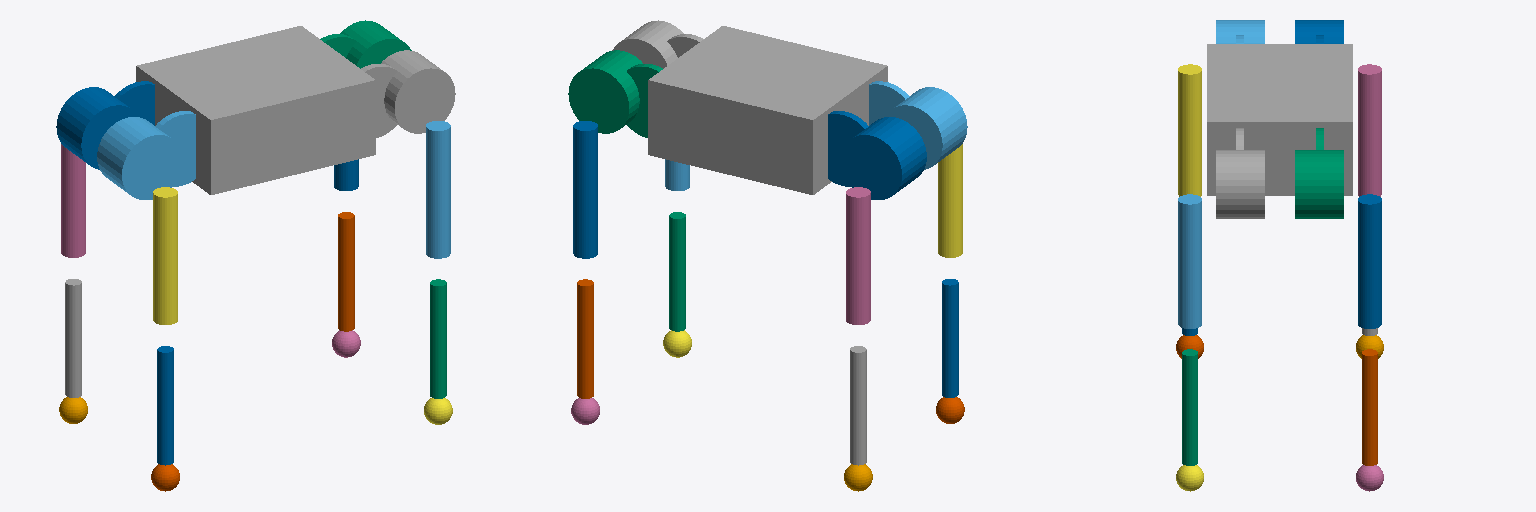
--- Render facts (derived) ---
The picture shows the robot from 3 angles, left to right: view 1: azimuth 30°, elevation 25°; view 2: azimuth 150°, elevation 25°; view 3: azimuth 270°, elevation 25°; orthographic projection.
Robot: mini_cheetah — 22 links, 21 joints (12 revolute, 9 fixed); root link base; default pose: every joint at zero.
Visible links, largest first — view 1: trunk, RR_hip, FR_hip, RL_hip, RR_thigh, FR_thigh, RL_thigh, FL_hip, FR_calf, FL_calf, RR_calf, RL_calf (+5 smaller); view 2: trunk, RL_hip, FL_hip, RR_hip, RL_thigh, FL_thigh, RR_thigh, FR_hip, FL_calf, FR_calf, RL_calf, RR_calf (+5 smaller); view 3: trunk, FL_hip, FR_hip, FL_thigh, FR_thigh, RL_thigh, RR_thigh, FL_calf, FR_calf, RL_hip, RR_hip, FL_foot (+1 smaller).
Link boxes in pixels (left/top/right/bottom): trunk: left=136, top=26, right=375, bottom=194; RR_hip: left=97, top=111, right=195, bottom=199; FR_hip: left=361, top=50, right=455, bottom=137; RL_hip: left=56, top=81, right=154, bottom=169; RR_thigh: left=153, top=187, right=177, bottom=324; FR_thigh: left=426, top=121, right=450, bottom=258; RL_thigh: left=61, top=144, right=85, bottom=257; FL_hip: left=320, top=20, right=411, bottom=68; FR_calf: left=430, top=279, right=446, bottom=398; FL_calf: left=338, top=212, right=354, bottom=331; RR_calf: left=157, top=346, right=173, bottom=465; RL_calf: left=65, top=279, right=81, bottom=397; trunk: left=648, top=26, right=887, bottom=194; RL_hip: left=828, top=111, right=926, bottom=199; FL_hip: left=568, top=50, right=662, bottom=137; RR_hip: left=869, top=81, right=967, bottom=169; RL_thigh: left=846, top=187, right=870, bottom=324; FL_thigh: left=573, top=121, right=597, bottom=258; RR_thigh: left=938, top=144, right=962, bottom=257; FR_hip: left=612, top=20, right=703, bottom=68; FL_calf: left=577, top=279, right=593, bottom=398; FR_calf: left=669, top=212, right=685, bottom=331; RL_calf: left=850, top=346, right=866, bottom=465; RR_calf: left=942, top=279, right=958, bottom=397; trunk: left=1207, top=44, right=1352, bottom=195; FL_hip: left=1295, top=128, right=1343, bottom=218; FR_hip: left=1216, top=128, right=1264, bottom=218; FL_thigh: left=1358, top=194, right=1381, bottom=328; FR_thigh: left=1178, top=194, right=1201, bottom=328; RL_thigh: left=1358, top=64, right=1381, bottom=196; RR_thigh: left=1178, top=64, right=1201, bottom=196; FL_calf: left=1362, top=349, right=1377, bottom=465; FR_calf: left=1182, top=349, right=1197, bottom=465; RL_hip: left=1295, top=20, right=1343, bottom=43; RR_hip: left=1216, top=20, right=1264, bottom=43; FL_foot: left=1356, top=465, right=1383, bottom=491.
Bounding box of the posed robot: 0.465 × 0.257 × 0.4665 m (x, y, z).
Geometry: primitives only (box / cylinder / sphere), no mesh files.

URDF robot description (mini_cheetah):
<?xml version="1.0" ?>
<robot name="mini_cheetah" xmlns:xacro="http://ros.org/wiki/xacro">

<material name="cheetah_material">
    <color rgba="0.7 0.7 0.7 1.0"/>
</material>


<!--!!!!!!!!!!!!!!!!!!BODY!!!!!!!!!!!!!!!!!!!!!!!!!!!!!!!-->
<!--   <link name="trunk">
        <inertial>
            <mass value="3.3"/>
            <origin xyz="0.0 0.0 0.0"/>
            <inertia ixx="0.011253" ixy="0" ixz="0" iyy="0.036203" iyz="0" izz="0.042673"/>
        </inertial>
        <visual>
            <geometry>
              mesh filename="meshes/mini_body.obj"/!!!
	        <box size="0.23 0.18 0.1"/>
            </geometry>
            <origin rpy="0.0 0.0 0.0" xyz="0.0 0.0 0.0"/>
        </visual>
        <collision>
            <geometry>
              mesh filename="meshes/mini_body.obj"/
	      <box size="0.23 0.18 0.1"/>
            </geometry>
            <origin rpy="0 0 0" xyz="0 0 0"/>
        </collision>
        <material name="cheetah_material"/>
    </link>

 -->
<link name="base">
    <visual>
      <origin rpy="0 0 0" xyz="0 0 0"/>
      <geometry>
        <box size="0.001 0.001 0.001"/>
      </geometry>
    </visual>
    <inertial>
      <origin rpy="0 0 0" xyz="0.012731 0.002186 0.000515"/>
      <mass value="3.3"/>
      <inertia ixx="0.01683993" ixy="8.3902e-05" ixz="0.000597679" iyy="0.056579028" iyz="2.5134e-05" izz="0.064713601"/>
    </inertial>
  </link>
  <joint name="floating_base" type="fixed">
    <origin rpy="0 0 0" xyz="0 0 0"/>
    <parent link="base"/>
    <child link="trunk"/>
  </joint>
  <link name="trunk">
    <visual>
      <origin rpy="0 0 0" xyz="0 0 0"/>
      <geometry>
        <box size="0.23 0.18 0.1"/>
        </geometry>
      <!-- <geometry>
        <mesh filename="../meshes/trunk.dae" scale="1 1 1"/>
      </geometry> -->
      <material name="cheetah_material"/>
    </visual>
    <collision>
      <origin rpy="0 0 0" xyz="0 0 0"/>
      <geometry>
        <box size="0.23 0.18 0.1"/>
      </geometry>
    </collision>
    <material name="cheetah_material"/>
  </link>
  <!-- <joint name="imu_joint" type="fixed">
    <parent link="trunk"/>
    <child link="imu_link"/>
    <origin rpy="0 0 0" xyz="0 0 0"/>
  </joint>
  <link name="imu_link">
    <inertial>
      <mass value="0.001"/>
      <origin rpy="0 0 0" xyz="0 0 0"/>
      <inertia ixx="0.0001" ixy="0" ixz="0" iyy="0.0001" iyz="0" izz="0.0001"/>
    </inertial>
    <visual>
      <origin rpy="0 0 0" xyz="0 0 0"/>
      <geometry>
        <box size="0.001 0.001 0.001"/>
      </geometry>
      <material name="red"/>
    </visual> -->
    <!-- <collision>
      <origin rpy="0 0 0" xyz="0 0 0"/>
      <geometry>
        <box size=".001 .001 .001"/>
      </geometry>
    </collision> 
  </link> -->


<!--!!!!!!!!!!!! Front Left Leg !!!!!!!!!!!!!!!!!!!!!!!!!!!!!!!!!!!!-->
    <joint name="FL_hip_joint" type="revolute">
        <axis xyz="1 0 0"/>
        <origin rpy="0 0 0" xyz="0.19 0.049 0.0"/>
        <parent link="trunk"/>
        <child link="FL_hip"/>
	<limit effort="18" lower="-1.6" upper="1.6" velocity="40"/>
    </joint>
    <link name="FL_hip">
        <material name="cheetah_material"/>
        <inertial>
            <mass value="0.54"/>
            <origin xyz="0.0 0.036 0."/>
            <inertia ixx="0.000381" ixy="0.000058" ixz="0.00000045" 
                iyy="0.000560" iyz="0.00000095" izz="0.000444"/>
        </inertial>
        <visual>
            <geometry>
              <!--mesh filename="meshes/mini_abad.obj"/-->
	      <cylinder length ="0.01" radius = "0.0475"/>
            </geometry>
            <origin rpy="0. 1.5708 -1.5708" xyz="-0.055 0.0 0.0"/>
        </visual>
	<visual>
            <geometry>
              <!--mesh filename="meshes/mini_abad.obj"/-->
	      <cylinder length ="0.06" radius = "0.0425"/>
            </geometry>
            <!--origin rpy="3.141592 0.0 1.5708" xyz="-0.055 0.0 0.0"/-->
	    <origin rpy="1.5708 0.0 0.0" xyz="0.0 0.0 0.0"/>
        </visual>
        <collision>
            <geometry>
              <!--mesh filename="meshes/mini_abad.obj"/-->
	      <cylinder length ="0.01" radius = "0.0475"/>
            </geometry>
            <!--origin rpy="0 0 -1.5708" xyz="-0.055 0 0"/-->
	    <origin rpy="0 1.5708 -1.5708" xyz="-0.055 0.0 0.0"/>
        </collision>
	<collision>
            <geometry>
              <!--mesh filename="meshes/mini_abad.obj"/-->
	      <cylinder length ="0.06" radius = "0.0425"/>
            </geometry>
            <!--origin rpy="0 0 -1.5708" xyz="-0.055 0 0"/-->
	    <origin rpy="1.5708 0.0 0.0" xyz="0.0 0.0 0.0"/>
        </collision>
    </link>

    <joint name="FL_hip_fixed" type="fixed">
    <origin rpy="0 0 0" xyz="0 0.081 0"/>
    <parent link="FL_hip"/>
    <child link="FL_thigh_shoulder"/>
  </joint>
  <!-- this link is only for collision -->
  <link name="FL_thigh_shoulder">
    <!-- <collision>
      <origin rpy="1.57079632679 0 0" xyz="0 0 0"/>
      <geometry>
        <cylinder length="0.032" radius="0.041"/>
      </geometry>
    </collision> -->
  </link>

    <joint name="FL_thigh_joint" type="revolute">
        <axis xyz="0 -1 0"/>
        <origin rpy="0.0 0.0 0.0" xyz="0.0 0.062 0.00"/>
        <parent link="FL_hip"/>
        <child link="FL_thigh"/>
	<limit effort="18" lower="-2.6" upper="2.6" velocity="40"/>
    </joint>
    <link name="FL_thigh">
        <material name="cheetah_material"/>
        <inertial>
            <mass value="0.634"/>
            <origin xyz="0.0 0.016 -0.02"/>
            <inertia ixx="0.001983" ixy="0.000245" ixz="0.000013" 
                iyy="0.002103" iyz="0.0000015" izz="0.000408"/>
        </inertial>
        <visual>
            <geometry>
              <!--mesh filename="meshes/mini_upper_link.obj"/-->
	      <cylinder length ="0.17" radius = "0.015"/>
            </geometry>
            <origin rpy="0.0 0.0 0.0" xyz="0.0 0.0 -0.105"/>
        </visual>
        <collision>
            <geometry>
              <!--mesh filename="meshes/mini_upper_link.obj"/-->
	      <cylinder length ="0.17" radius = "0.015"/>
            </geometry>
            <origin rpy="0.0 0.0 0.0" xyz="0.0 0.0 -0.105"/>
        </collision>
    </link>

    <joint name="FL_calf_joint" type="revolute">
        <axis xyz="0 -1 0"/>
        <origin rpy="0.0 0 0.0" xyz="0.0 0.0 -0.209"/>
        <parent link="FL_thigh"/>
        <child link="FL_calf"/>
	<limit effort="26" lower="-2.6" upper="2.6" velocity="26"/>
    </joint>
    <link name="FL_calf">
        <material name="cheetah_material"/>
        <inertial>
            <mass value="0.064"/>
            <origin xyz="0.0 0.0 -0.209"/>
            <inertia ixx="0.000245" ixy="0" ixz="0.0" iyy="0.000248" iyz="0" izz="0.000006"/>
        </inertial>
        <visual>
            <geometry>
              <!--mesh filename="meshes/mini_lower_link.obj"/-->
	      <cylinder length ="0.15" radius = "0.01"/>
            </geometry>
            <origin rpy="0.0 3.141592 0.0" xyz="0.0 0.0 -0.095"/>
        </visual>
        <collision>
            <geometry>
              <!--mesh filename="meshes/mini_lower_link.obj"/-->
	      <cylinder length ="0.15" radius = "0.01"/>
            </geometry>
            <origin rpy="0.0 3.141592 0.0" xyz="0 0 -0.095"/>
        </collision>
    </link>
    <!-- Adapter to Foot joint -->
    <joint name="FL_foot_fixed" type="fixed">
        <parent link="FL_calf"/>
        <child link="FL_foot"/>
        <origin rpy="0.0 0.0 0.0" xyz="0.0 0.0 -0.19"/>
    </joint>
    <link name="FL_foot">
        <material name="cheetah_material"/>
        <inertial>
            <mass value="0.0"/>
            <inertia ixx="0.000025" ixy="0" ixz="0.0" iyy="0.000025" iyz="0" izz="0.000025"/>
        </inertial>
	<visual>
            <geometry>
              <sphere radius = "0.0175"/>
            </geometry>
            <origin rpy="0.0 3.141592 0.0" xyz="0.0 0.0 0.0"/>
        </visual>
	<collision>
            <geometry>
              <!--mesh filename="meshes/mini_lower_link.obj"/-->
	      <sphere radius = "0.0175"/>
            </geometry>
            <origin rpy="0.0 3.141592 0.0" xyz="0 0 0"/>
        </collision>
    </link>
	


    
    <!--!!!!!!!!!!!! Front Right Leg !!!!!!!!!!!!!!!!!!!!!!!!!!!!!!!!!!!!-->

    <!--!!!!Joint!!!!!!!!!!!!-->
    <joint name="FR_hip_joint" type="revolute">
        <axis xyz="1 0 0"/>
        <origin rpy="0 0 0" xyz="0.19 -0.049 0.0"/>
        <parent link="trunk"/>
        <child link="FR_hip"/>
	<limit effort="18" lower="-1.6" upper="1.6" velocity="40"/>
    </joint>
    <link name="FR_hip">
        <material name="cheetah_material"/>
        <inertial>
            <mass value="0.54"/>
            <origin xyz="0.0 0.036 0."/>
            <inertia ixx="0.000381" ixy="0.000058" ixz="0.00000045" 
                iyy="0.000560" iyz="0.00000095" izz="0.000444"/>
        </inertial>
        <visual>
            <geometry>
              <!--mesh filename="meshes/mini_abad.obj"/-->
	      <cylinder length ="0.01" radius = "0.0475"/>
            </geometry>
            <!--origin rpy="3.141592 0.0 1.5708" xyz="-0.055 0.0 0.0"/-->
	    <origin rpy="3.141592 1.5708 1.5708" xyz="-0.055 0.0 0.0"/>
        </visual>
	<visual>
            <geometry>
              <!--mesh filename="meshes/mini_abad.obj"/-->
	      <cylinder length ="0.06" radius = "0.0425"/>
            </geometry>
            <!--origin rpy="3.141592 0.0 1.5708" xyz="-0.055 0.0 0.0"/-->
	    <origin rpy="1.5708 0.0 0.0" xyz="0.0 0.0 0.0"/>
        </visual>
        <collision>
            <geometry>
              <!--mesh filename="meshes/mini_abad.obj"/-->
	      <cylinder length ="0.01" radius = "0.0475"/>
            </geometry>
            <origin rpy="3.141592 1.5708 1.5708" xyz="-0.055 0 0"/>
        </collision>
	<collision>
            <geometry>
              <!--mesh filename="meshes/mini_abad.obj"/-->
	      <cylinder length ="0.06" radius = "0.0425"/>
            </geometry>
            <origin rpy="1.5708 0.0 0.0" xyz="-0.055 0 0"/>
        </collision>
    </link>

    <joint name="FR_hip_fixed" type="fixed">
    <origin rpy="0 0 0" xyz="0 0.081 0"/>
    <parent link="FR_hip"/>
    <child link="FR_thigh_shoulder"/>
  </joint>
  <!-- this link is only for collision -->
  <link name="FR_thigh_shoulder">
    <!-- <collision>
      <origin rpy="1.57079632679 0 0" xyz="0 0 0"/>
      <geometry>
        <cylinder length="0.032" radius="0.041"/>
      </geometry>
    </collision> -->
  </link>

    <joint name="FR_thigh_joint" type="revolute">
        <axis xyz="0 -1 0"/>
        <origin rpy="0.0 0.0 0.0" xyz="0.0 -0.062 0.00"/>
        <parent link="FR_hip"/>
        <child link="FR_thigh"/>
	<limit effort="18" lower="-2.6" upper="2.6" velocity="40"/>
    </joint>
    <link name="FR_thigh">
        <material name="cheetah_material"/>
        <inertial>
            <mass value="0.634"/>
            <origin xyz="0.0 0.016 -0.02"/>
            <inertia ixx="0.001983" ixy="0.000245" ixz="0.000013" 
                iyy="0.002103" iyz="0.0000015" izz="0.000408"/>
        </inertial>
        <visual>
            <geometry>
              <!--mesh filename="meshes/mini_upper_link.obj"/-->
	      <cylinder length ="0.17" radius = "0.015"/>
            </geometry>
            <origin rpy="0.0 0.0 0.0" xyz="0.0 0.0 -0.105"/>
        </visual>
        <collision>
            <geometry>
              <!--mesh filename="meshes/mini_upper_link.obj"/-->
	      <cylinder length ="0.17" radius = "0.015"/>
            </geometry>
            <origin rpy="0.0 0.0 0.0" xyz="0.0 0.0 -0.105"/>
        </collision>
    </link>

    <joint name="FR_calf_joint" type="revolute">
        <axis xyz="0 -1 0"/>
        <origin rpy="0.0 0 0.0" xyz="0.0 0.0 -0.209"/>
        <parent link="FR_thigh"/>
        <child link="FR_calf"/>
	<limit effort="26" lower="-2.6" upper="2.6" velocity="26"/>
    </joint>
    <link name="FR_calf">
        <material name="cheetah_material"/>
        <inertial>
            <mass value="0.064"/>
            <origin xyz="0.0 0.0 -0.209"/>
            <inertia ixx="0.000245" ixy="0" ixz="0.0" iyy="0.000248" iyz="0" izz="0.000006"/>
        </inertial>
        <visual>
            <geometry>
              <!--mesh filename="meshes/mini_lower_link.obj"/-->
	      <cylinder length ="0.15" radius = "0.01"/>
            </geometry>
            <origin rpy="0.0 3.141592 0.0" xyz="0.0 0.0 -0.095"/>
        </visual>
        <collision>
            <geometry>
              <!--mesh filename="meshes/mini_lower_link.obj"/-->
	      <cylinder length ="0.15" radius = "0.01"/>
            </geometry>
            <origin rpy="0.0 3.141592 0.0" xyz="0.0 0.0 -0.095"/>
        </collision>
    </link>

    <!-- Adapter to Foot joint -->
    <joint name="FR_foot_fixed" type="fixed">
        <parent link="FR_calf"/>
        <child link="FR_foot"/>
        <origin rpy="0.0 0.0 0.0" xyz="0.0 0.0 -0.19"/>
    </joint>

    <link name="FR_foot">
        <material name="cheetah_material"/>
        <inertial>
            <mass value="0.0"/>
            <inertia ixx="0.000025" ixy="0" ixz="0.0" iyy="0.000025" iyz="0" izz="0.000025"/>
        </inertial>
	<visual>
            <geometry>
              <sphere radius = "0.0175"/>
            </geometry>
            <origin rpy="0.0 3.141592 0.0" xyz="0.0 0.0 0.0"/>
        </visual>
	<collision>
            <geometry>
              <!--mesh filename="meshes/mini_lower_link.obj"/-->
	       <sphere radius = "0.0175"/>
            </geometry>
            <origin rpy="0.0 3.141592 0" xyz="0.0 0.0 0"/>
        </collision>
    </link>
	



<!--!!!!!!!!!!!! Hind Left Leg !!!!!!!!!!!!!!!!!!!!!!!!!!!!!!!!!!!!-->
    <joint name="RL_hip_joint" type="revolute">
        <axis xyz="1 0 0"/>
        <origin rpy="0 0 0" xyz="-0.19 0.049 0.0"/>
        <parent link="trunk"/>
        <child link="RL_hip"/>
	<limit effort="18" lower="-1.6" upper="1.6" velocity="40"/>
    </joint>
    <link name="RL_hip">
        <material name="cheetah_material"/>
        <inertial>
            <mass value="0.54"/>
            <origin xyz="0.0 0.036 0."/>
            <inertia ixx="0.000381" ixy="0.000058" ixz="0.00000045" 
                iyy="0.000560" iyz="0.00000095" izz="0.000444"/>
        </inertial>
        <visual>
            <geometry>
              <!--mesh filename="meshes/mini_abad.obj"/-->
	      <cylinder length ="0.01" radius = "0.0475"/>
            </geometry>
            <!--origin rpy="3.141592 0.0 -1.5708" xyz="0.055 0.0 0.0"/-->
	    <origin rpy="3.141592 1.5708 -1.5708" xyz="0.055 0.0 0.0"/>
        </visual>
	<visual>
            <geometry>
              <!--mesh filename="meshes/mini_abad.obj"/-->
	      <cylinder length ="0.06" radius = "0.0425"/>
            </geometry>
            <!--origin rpy="3.141592 0.0 1.5708" xyz="-0.055 0.0 0.0"/-->
	    <origin rpy="1.5708 0.0 0.0" xyz="0.0 0.0 0.0"/>
        </visual>
        <collision>
            <geometry>
              <!--mesh filename="meshes/mini_abad.obj"/-->
	      <cylinder length ="0.01" radius = "0.0475"/>
            </geometry>
            <origin rpy="3.141592 1.5708 -1.5708" xyz="0.055 0 0"/>
        </collision>
	<collision>
            <geometry>
              <!--mesh filename="meshes/mini_abad.obj"/-->
	      <cylinder length ="0.06" radius = "0.0425"/>
            </geometry>
            <origin rpy="1.5708 0.0 0.0" xyz="0.0 0.0 0.0"/>
        </collision>
    </link>
    <joint name="RL_hip_fixed" type="fixed">
    <origin rpy="0 0 0" xyz="0 0.081 0"/>
    <parent link="RL_hip"/>
    <child link="RL_thigh_shoulder"/>
  </joint>
  <!-- this link is only for collision -->
  <link name="RL_thigh_shoulder">
    <!-- <collision>
      <origin rpy="1.57079632679 0 0" xyz="0 0 0"/>
      <geometry>
        <cylinder length="0.032" radius="0.041"/>
      </geometry>
    </collision> -->
  </link>

    <joint name="RL_thigh_joint" type="revolute">
        <axis xyz="0 -1 0"/>
        <origin rpy="0.0 0.0 0.0" xyz="0.0 0.062 0.00"/>
        <parent link="RL_hip"/>
        <child link="RL_thigh"/>
	<limit effort="18" lower="-2.6" upper="2.6" velocity="40"/>
    </joint>
    <link name="RL_thigh">
        <material name="cheetah_material"/>
        <inertial>
            <mass value="0.634"/>
            <origin xyz="0.0 0.016 -0.02"/>
            <inertia ixx="0.001983" ixy="0.000245" ixz="0.000013" 
                iyy="0.002103" iyz="0.0000015" izz="0.000408"/>
        </inertial>
        <visual>
            <geometry>
              <!--mesh filename="meshes/mini_upper_link.obj"/-->
	      <cylinder length ="0.17" radius = "0.015"/>
            </geometry>
            <origin rpy="0.0 0.0 0.0" xyz="0.0 0.0 -0.105"/>
        </visual>
        <collision>
            <geometry>
              <!--mesh filename="meshes/mini_upper_link.obj"/-->
	      <cylinder length ="0.17" radius = "0.015"/>
            </geometry>
            <origin rpy="0.0 0.0 0.0" xyz="0.0 0.0 -0.105"/>
        </collision>
    </link>

    <joint name="RL_calf_joint" type="revolute">
        <axis xyz="0 -1 0"/>
        <origin rpy="0.0 0 0.0" xyz="0.0 0.0 -0.209"/>
        <parent link="RL_thigh"/>
        <child link="RL_calf"/>
	<limit effort="26" lower="-2.6" upper="2.6" velocity="26"/>
    </joint>
    <link name="RL_calf">
        <material name="cheetah_material"/>
        <inertial>
            <mass value="0.064"/>
            <origin xyz="0.0 0.0 -0.209"/>
            <inertia ixx="0.000245" ixy="0" ixz="0.0" iyy="0.000248" iyz="0" izz="0.000006"/>
        </inertial>
        <visual>
            <geometry>
              <!--mesh filename="meshes/mini_lower_link.obj"/-->
	      <cylinder length ="0.15" radius = "0.01"/>
            </geometry>
            <origin rpy="0.0 3.141592 0.0" xyz="0.0 0.0 -0.095"/>
        </visual>
        <collision>
            <geometry>
              <!--mesh filename="meshes/mini_lower_link.obj"/-->
	      <cylinder length ="0.15" radius = "0.01"/>
            </geometry>
            <origin rpy="0.0 3.141592 0.0" xyz="0.0 0.0 -0.095"/>
        </collision>
    </link>

    <!-- Adapter to Foot joint -->
    <joint name="RL_foot_fixed" type="fixed">
        <parent link="RL_calf"/>
        <child link="RL_foot"/>
        <origin rpy="0.0 0.0 0.0" xyz="0.0 0.0 -0.19"/>
    </joint>

    <link name="RL_foot">
        <material name="cheetah_material"/>
        <inertial>
            <mass value="0.0"/>
            <inertia ixx="0.000025" ixy="0" ixz="0.0" iyy="0.000025" iyz="0" izz="0.000025"/>
        </inertial>
	<visual>
            <geometry>
              <sphere radius = "0.0175"/>
            </geometry>
            <origin rpy="0.0 3.141592 0.0" xyz="0.0 0.0 0.0"/>
        </visual>
	<collision>
            <geometry>
              <!--mesh filename="meshes/mini_lower_link.obj"/-->
	       <sphere radius = "0.0175"/>
            </geometry>
            <origin rpy="0.0 3.141592 0" xyz="0.0 0.0 0"/>
        </collision>
    </link>

    
<!--!!!!!!!!!!!! Hind Right Leg !!!!!!!!!!!!!!!!!!!!!!!!!!!!!!!!!!!!-->
    <joint name="RR_hip_joint" type="revolute">
        <axis xyz="1 0 0"/>
        <origin rpy="0 0 0" xyz="-0.19 -0.049 0.0"/>
        <parent link="trunk"/>
        <child link="RR_hip"/>
	<limit effort="18" lower="-1.6" upper="1.6" velocity="40"/>
    </joint>
    <link name="RR_hip">
        <material name="cheetah_material"/>
        <inertial>
            <mass value="0.54"/>
            <origin xyz="0.0 0.036 0."/>
            <inertia ixx="0.000381" ixy="0.000058" ixz="0.00000045" 
                iyy="0.000560" iyz="0.00000095" izz="0.000444"/>
        </inertial>
        <visual>
            <geometry>
              <!--mesh filename="meshes/mini_abad.obj"/-->
	      <cylinder length ="0.01" radius = "0.0475"/>
            </geometry>
            <!--origin rpy="0.0 0.0 1.5708" xyz="0.055 0.0 0.0"/-->
	    <origin rpy="0.0 1.5708 1.5708" xyz="0.055 0.0 0.0"/>
        </visual>
	<visual>
            <geometry>
              <!--mesh filename="meshes/mini_abad.obj"/-->
	      <cylinder length ="0.06" radius = "0.0425"/>
            </geometry>
            <!--origin rpy="3.141592 0.0 1.5708" xyz="-0.055 0.0 0.0"/-->
	    <origin rpy="1.5708 0.0 0.0" xyz="0.0 0.0 0.0"/>
        </visual>
        <collision>
            <geometry>
              <!--mesh filename="meshes/mini_abad.obj"/-->
	      <cylinder length ="0.01" radius = "0.0475"/>
            </geometry>
            <origin rpy="0.0 1.5708 1.5708" xyz="0.055 0.0 0.0"/>
        </collision>
	<collision>
            <geometry>
              <!--mesh filename="meshes/mini_abad.obj"/-->
	      <cylinder length ="0.06" radius = "0.0425"/>
            </geometry>
            <origin rpy="1.5708 0.0 0.0" xyz="0.0 0.0 0.0"/>
        </collision>
    </link>

    <joint name="RR_hip_fixed" type="fixed">
    <origin rpy="0 0 0" xyz="0 0.081 0"/>
    <parent link="RR_hip"/>
    <child link="RR_thigh_shoulder"/>
  </joint>
  <!-- this link is only for collision -->
  <link name="RR_thigh_shoulder">
    <!-- <collision>
      <origin rpy="1.57079632679 0 0" xyz="0 0 0"/>
      <geometry>
        <cylinder length="0.032" radius="0.041"/>
      </geometry>
    </collision> -->
  </link>

    <joint name="RR_thigh_joint" type="revolute">
        <axis xyz="0 -1 0"/>
        <origin rpy="0.0 0.0 0.0" xyz="0.0 -0.062 0.00"/>
        <parent link="RR_hip"/>
        <child link="RR_thigh"/>
	<limit effort="18" lower="-2.6" upper="2.6" velocity="40"/>
    </joint>
    <link name="RR_thigh">
        <material name="cheetah_material"/>
        <inertial>
            <mass value="0.634"/>
            <origin xyz="0.0 0.016 -0.02"/>
            <inertia ixx="0.001983" ixy="0.000245" ixz="0.000013" 
                iyy="0.002103" iyz="0.0000015" izz="0.000408"/>
        </inertial>
        <visual>
            <geometry>
              <!--mesh filename="meshes/mini_upper_link.obj"/-->
	      <cylinder length ="0.17" radius = "0.015"/>
            </geometry>
            <origin rpy="0.0 0.0 0.0" xyz="0.0 0.0 -0.105"/>
        </visual>
        <collision>
            <geometry>
              <!--mesh filename="meshes/mini_upper_link.obj"/-->
	      <cylinder length ="0.17" radius = "0.015"/>
            </geometry>
            <origin rpy="0.0 0.0 0.0" xyz="0.0 0.0 -0.105"/>
        </collision>
    </link>

    <joint name="RR_calf_joint" type="revolute">
        <axis xyz="0 -1 0"/>
        <origin rpy="0.0 0 0.0" xyz="0.0 0.0 -0.209"/>
        <parent link="RR_thigh"/>
        <child link="RR_calf"/>
	<limit effort="26" lower="-2.6" upper="2.6" velocity="26"/>
    </joint>
    <link name="RR_calf">
        <material name="cheetah_material"/>
        <inertial>
            <mass value="0.064"/>
            <origin xyz="0.0 0.0 -0.209"/>
            <inertia ixx="0.000245" ixy="0" ixz="0.0" iyy="0.000248" iyz="0" izz="0.000006"/>
        </inertial>
        <visual>
            <geometry>
              <!--mesh filename="meshes/mini_lower_link.obj"/-->
	      <cylinder length ="0.15" radius = "0.01"/>
            </geometry>
            <origin rpy="0.0 3.141592 0.0" xyz="0.0 0.0 -0.095"/>
        </visual>
        <collision>
            <geometry>
              <!--mesh filename="meshes/mini_lower_link.obj"/-->
	      <cylinder length ="0.15" radius = "0.01"/>
            </geometry>
            <origin rpy="0.0 3.141592 0.0" xyz="0 0 -0.095"/>
        </collision>

    </link>

    <!-- Adapter to Foot joint -->
    <joint name="RR_foot_fixed" type="fixed">
        <parent link="RR_calf"/>
        <child link="RR_foot"/>
        <origin rpy="0.0 0.0 0.0" xyz="0.0 0.0 -0.19"/>
    </joint>

    <link name="RR_foot">
        <material name="cheetah_material"/>
        <inertial>
            <mass value="0.0"/>
            <inertia ixx="0.000025" ixy="0" ixz="0.0" iyy="0.000025" iyz="0" izz="0.000025"/>
        </inertial>
	<visual>
            <geometry>
              <sphere radius = "0.0175"/>
            </geometry>
            <origin rpy="0.0 3.141592 0.0" xyz="0.0 0.0 0.0"/>
        </visual>
	<collision>
            <geometry>
              <!--mesh filename="meshes/mini_lower_link.obj"/-->
	       <sphere radius = "0.0175"/>
            </geometry>
            <origin rpy="0.0 3.141592 0" xyz="0.0 0.0 0"/>
        </collision>
    </link>

</robot>
